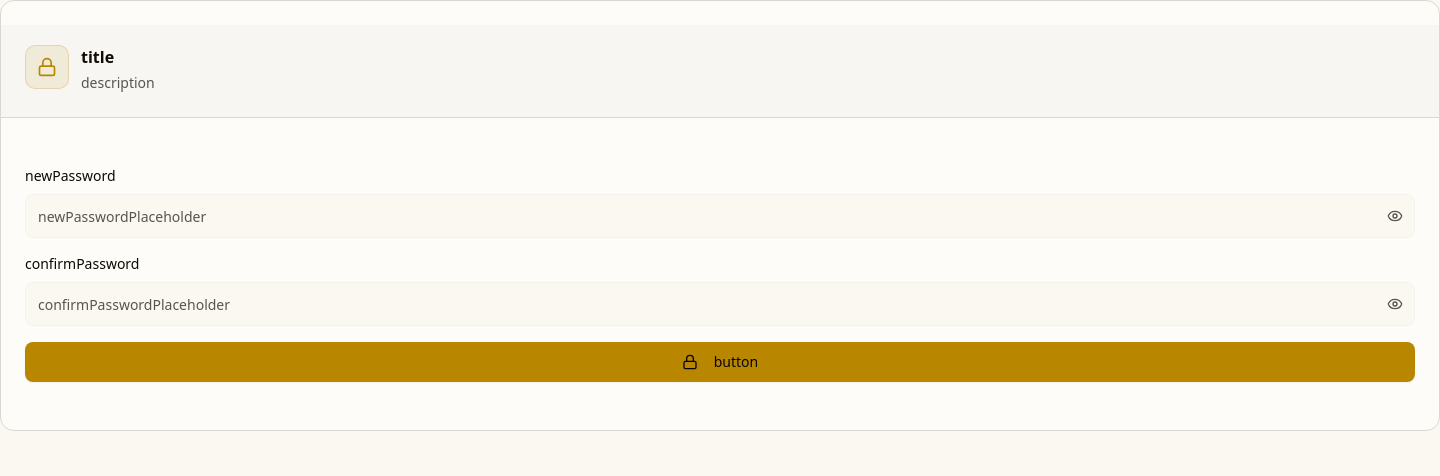
Test: PasswordChangeCard › shows validation error for password shorter than 8 chars
Type "12345" into the password field labelled "newPassword" at (720, 216), box x1=25 y1=194 x2=1415 y2=238
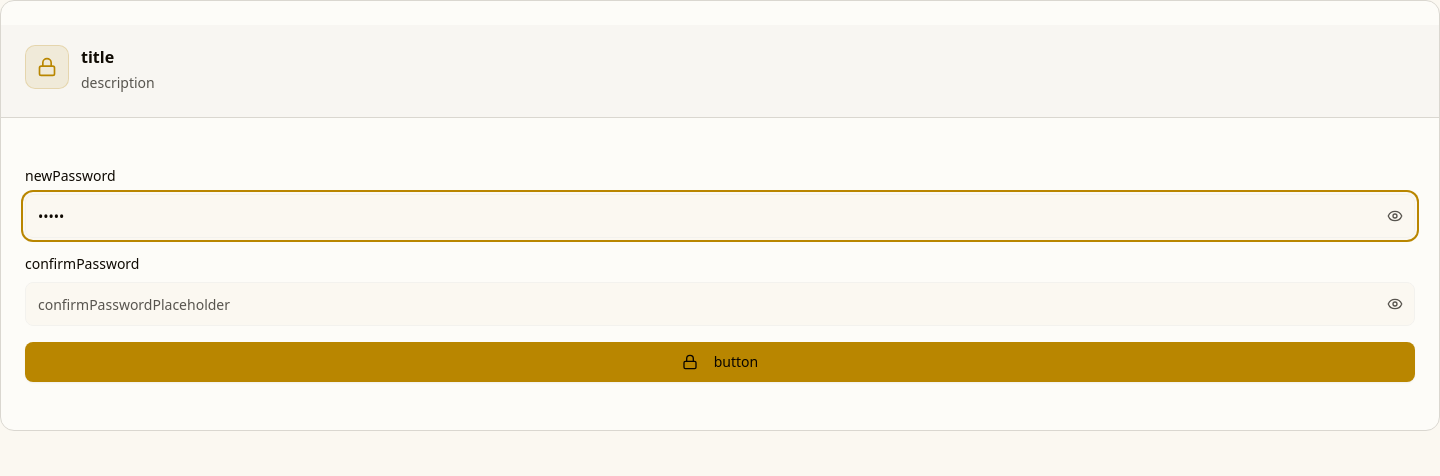
Type "12345" into the password field labelled "confirmPassword" at (720, 304), box x1=25 y1=282 x2=1415 y2=326
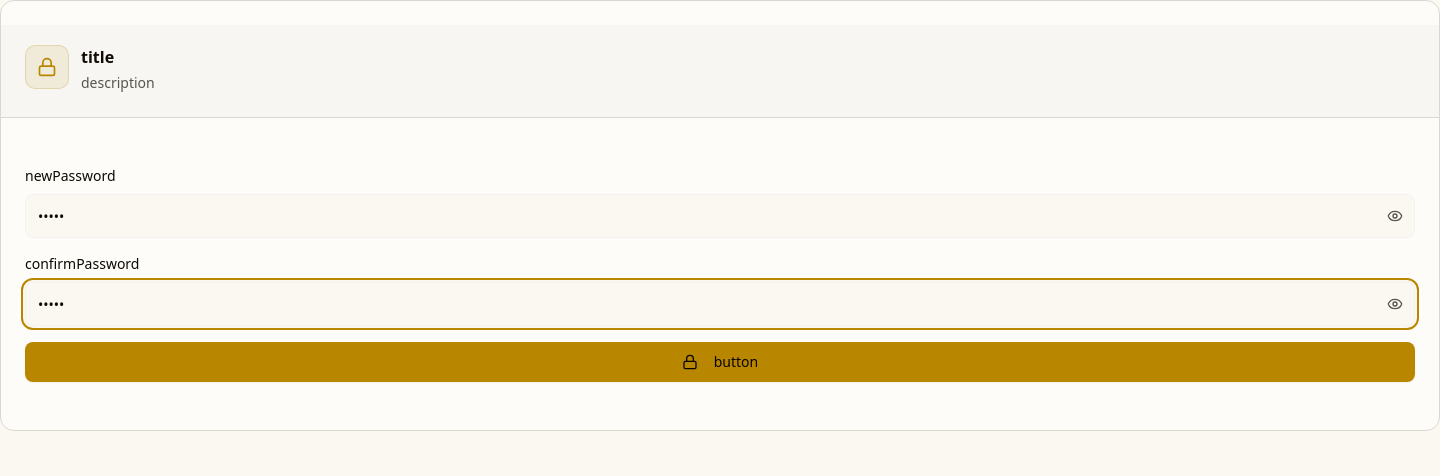
Click the button "button" at (720, 362), box x1=25 y1=342 x2=1415 y2=382
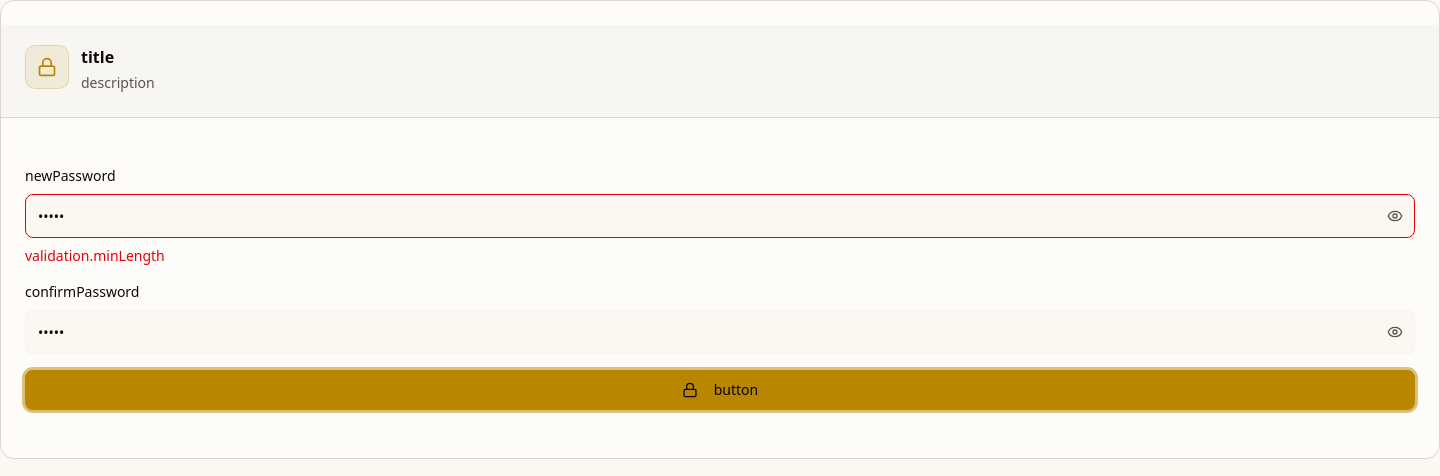
Now the text "validation.minLength" is shown, box x1=25 y1=246 x2=165 y2=265
